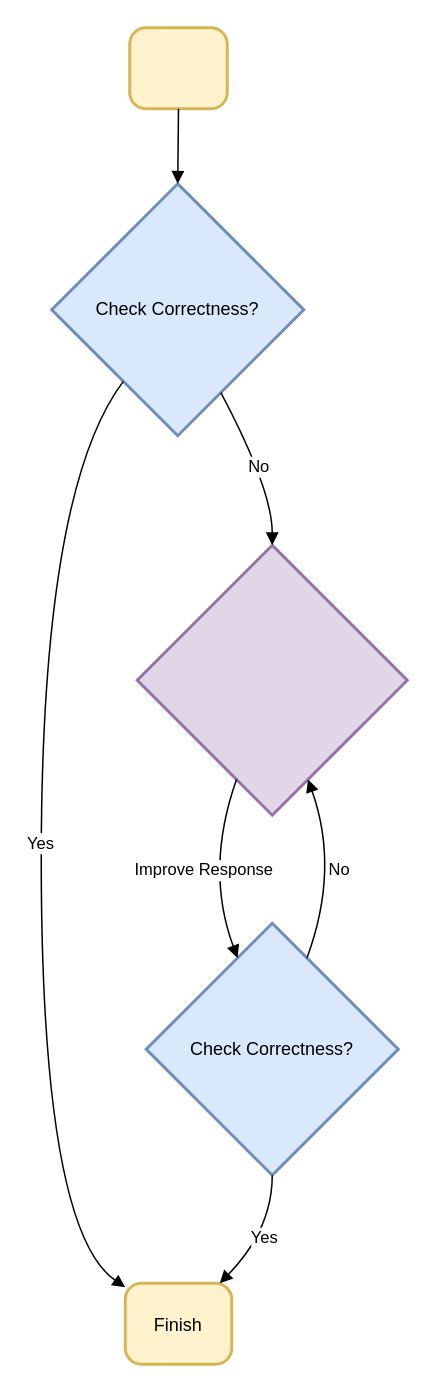
The diagram is 434 pixels wide and 1391 high, and some of its shapes have lost their labels. The shapes that lost their labels are listed below. From the top down, each one's box as (x1, y1, x2, y2) in pixels, then its label:
(128, 26, 228, 110): Start
(135, 543, 408, 816): Provide Feedback
